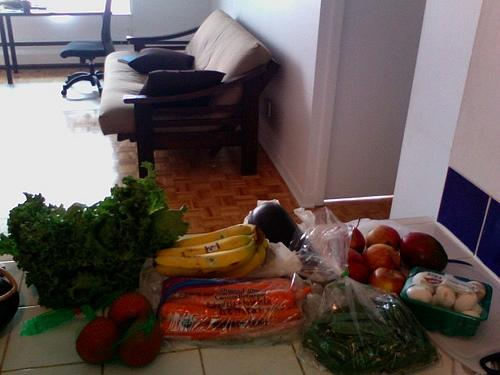apple: (399, 232, 448, 272), (362, 244, 402, 274), (368, 266, 406, 296), (366, 225, 400, 252), (348, 247, 370, 285), (350, 217, 366, 254)
banana: (152, 233, 264, 277), (156, 234, 254, 256), (169, 224, 256, 248), (212, 244, 266, 278)
carrot: (159, 318, 308, 340), (166, 288, 298, 309), (161, 304, 302, 323), (170, 279, 292, 294), (162, 277, 223, 295), (296, 286, 313, 302)
green bean: (342, 346, 374, 374), (386, 353, 427, 370), (392, 304, 412, 334), (330, 322, 374, 335), (326, 344, 350, 366), (376, 321, 400, 341), (360, 360, 388, 370), (410, 334, 426, 349), (342, 335, 360, 346), (343, 319, 382, 323), (356, 306, 366, 313)
lettuce: (0, 160, 189, 314)
mushroom: (430, 284, 456, 308), (412, 270, 436, 294), (406, 286, 433, 304), (454, 294, 478, 314), (467, 281, 486, 300), (461, 310, 480, 318)
tomato: (109, 309, 162, 368), (76, 317, 120, 365), (108, 292, 153, 338)
